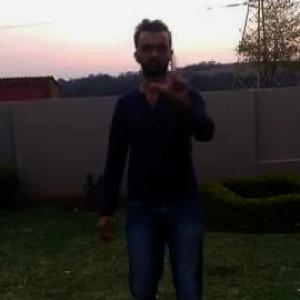land_hand: (149, 52, 200, 111)
